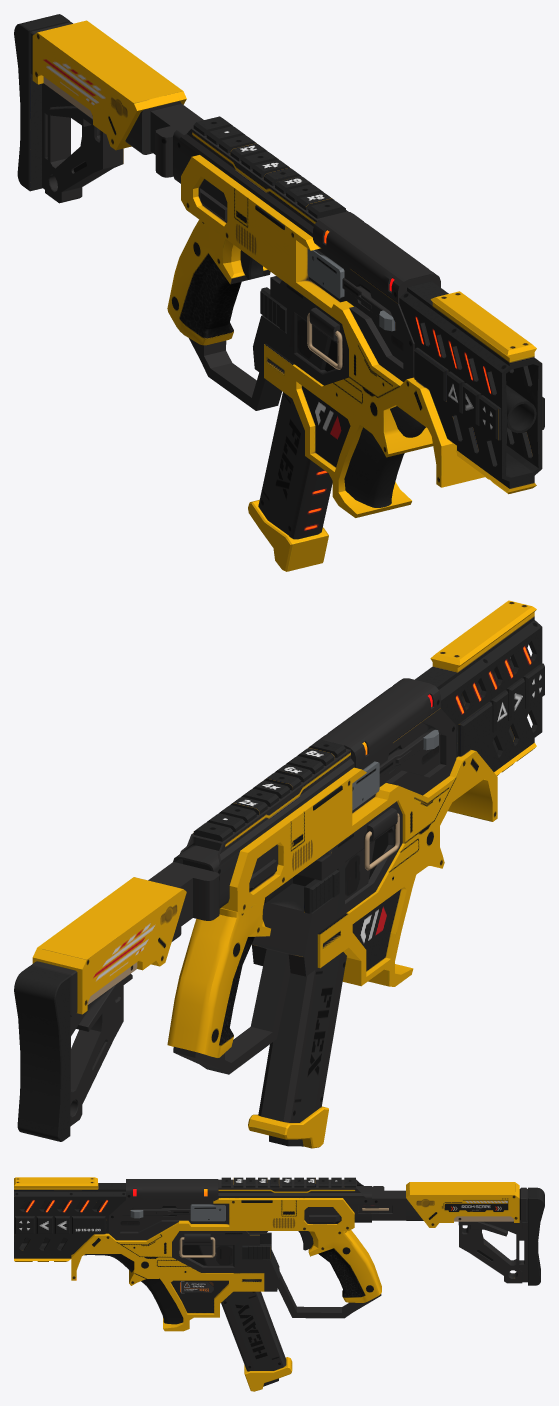
The model's file is zky8st19pdikibwes5an.glb.
3 renders of one model, top to bottom at view 1: azimuth 30°, elevation 25°; view 2: azimuth 150°, elevation 25°; view 3: azimuth 270°, elevation 25°, orthographic. The views are drawn at different scales.
Parts seen in each view (by area): view 1: SMG; view 2: SMG; view 3: SMG.
Part boxes in pixels (x1,y1,x2,y2): SMG: (14, 14, 544, 571); SMG: (14, 600, 544, 1148); SMG: (14, 1177, 544, 1391).
Bounding box in the file's own units: 0.0576 × 0.3198 × 0.7459.
Materials: 1 (1 with a texture image).
